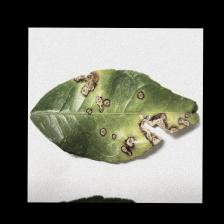canker: (67, 67, 197, 153)
